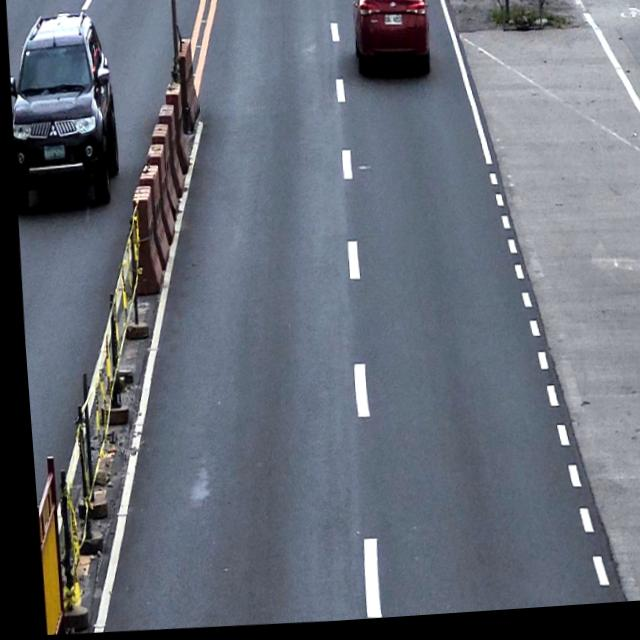Car: (3, 9, 124, 216), (343, 0, 435, 91)
License-Plate: (40, 144, 64, 162), (382, 18, 403, 31)
